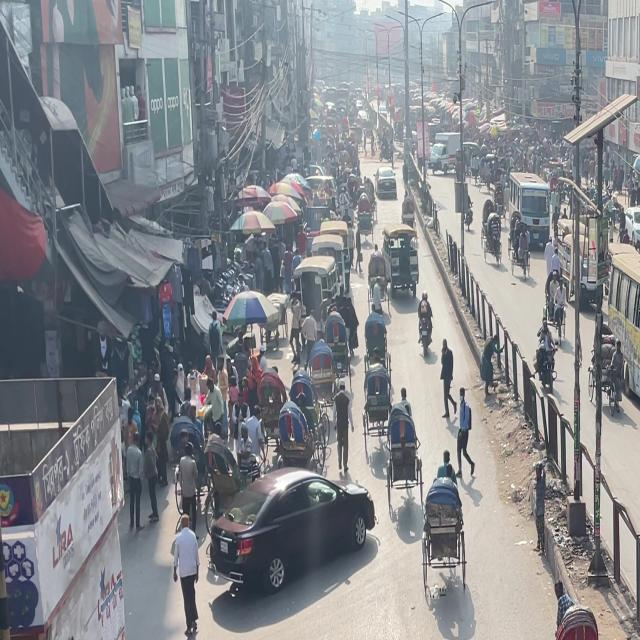car: (206, 472, 380, 618), (376, 170, 400, 200)
motorbike: (421, 488, 472, 624)
van: (385, 224, 423, 309)
